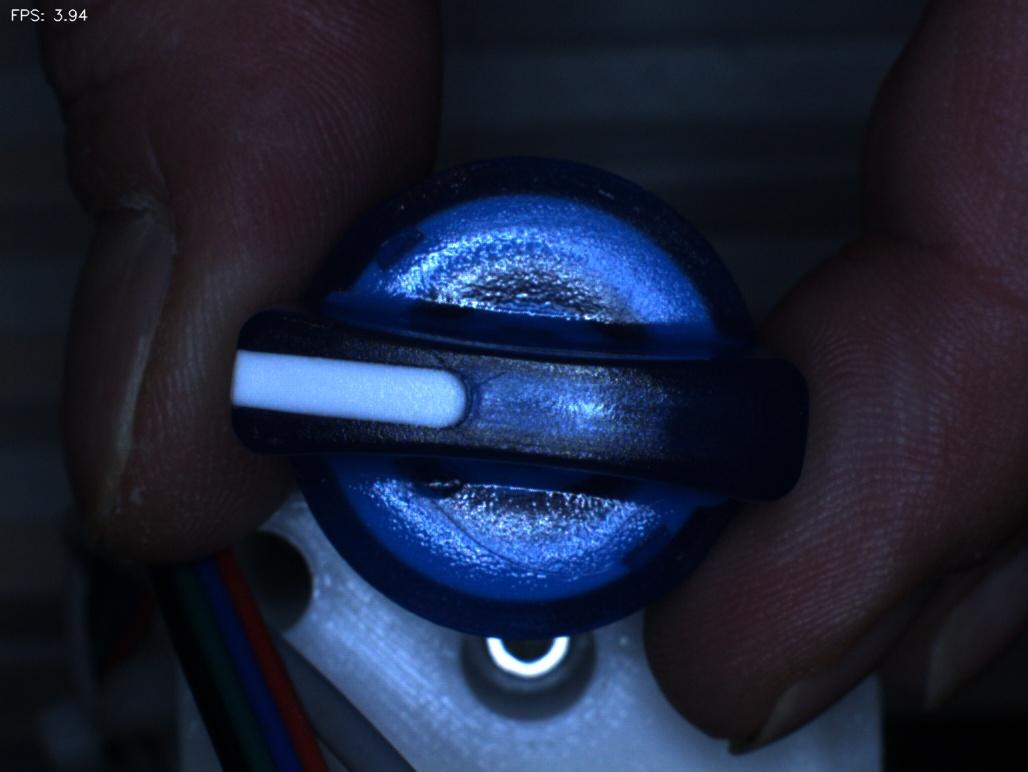Choc: (386, 448, 480, 523)
